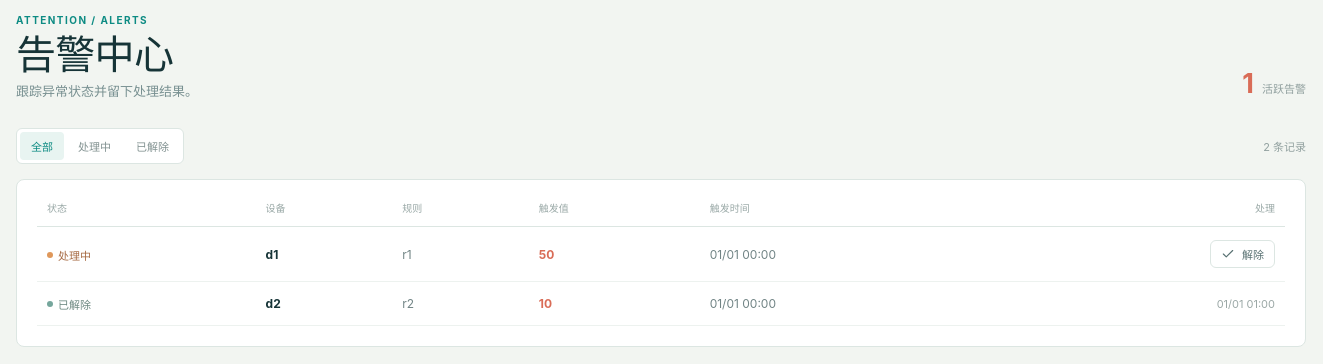
Test: AlarmsView › filters by status tab
Step 1. Click the button "处理中" → coordinates (94, 146), box [67,132,122,160]
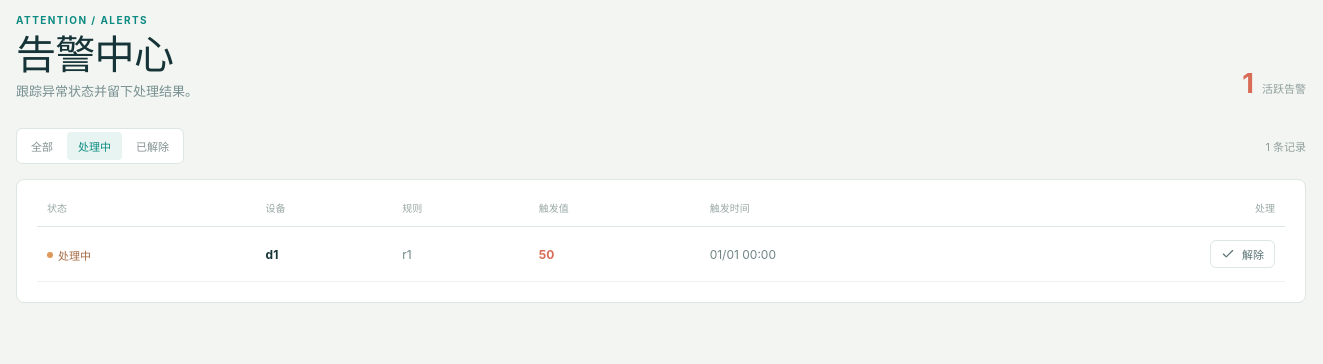
Expected: the row "处理中 d1 r1 50 01/01 00:00 解除" is shown, [37,227,1285,282]
Step 2. Click the button "已解除" → coordinates (152, 146), box [125,132,180,160]
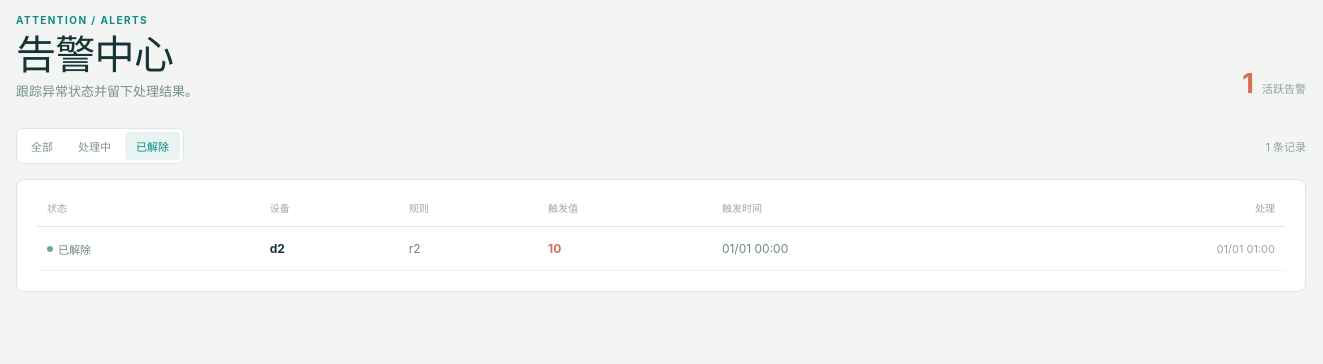
Now the row "已解除 d2 r2 10 01/01 00:00 01/01 01:00" is shown, box [37,227,1285,271]
